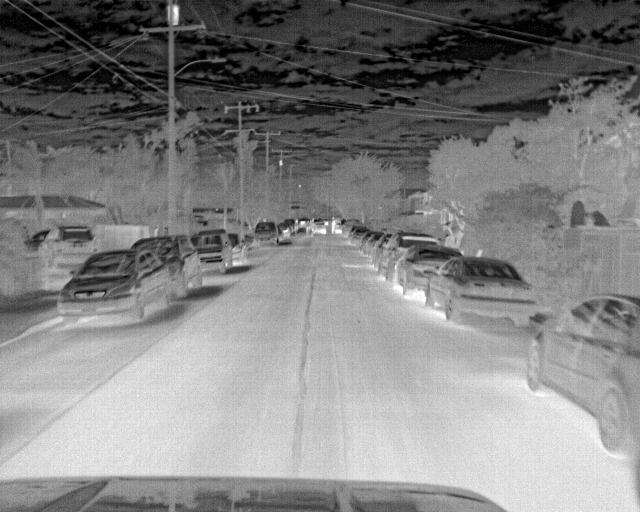car: (524, 289, 638, 459), (56, 246, 187, 329), (426, 257, 538, 324), (128, 238, 206, 293), (393, 245, 463, 298), (380, 233, 442, 283), (35, 224, 100, 270), (188, 228, 233, 271), (369, 232, 396, 266), (224, 233, 248, 265), (254, 221, 280, 248), (364, 233, 384, 257), (349, 225, 369, 247), (339, 217, 359, 237), (313, 220, 328, 235), (285, 218, 298, 235), (280, 222, 293, 237)
